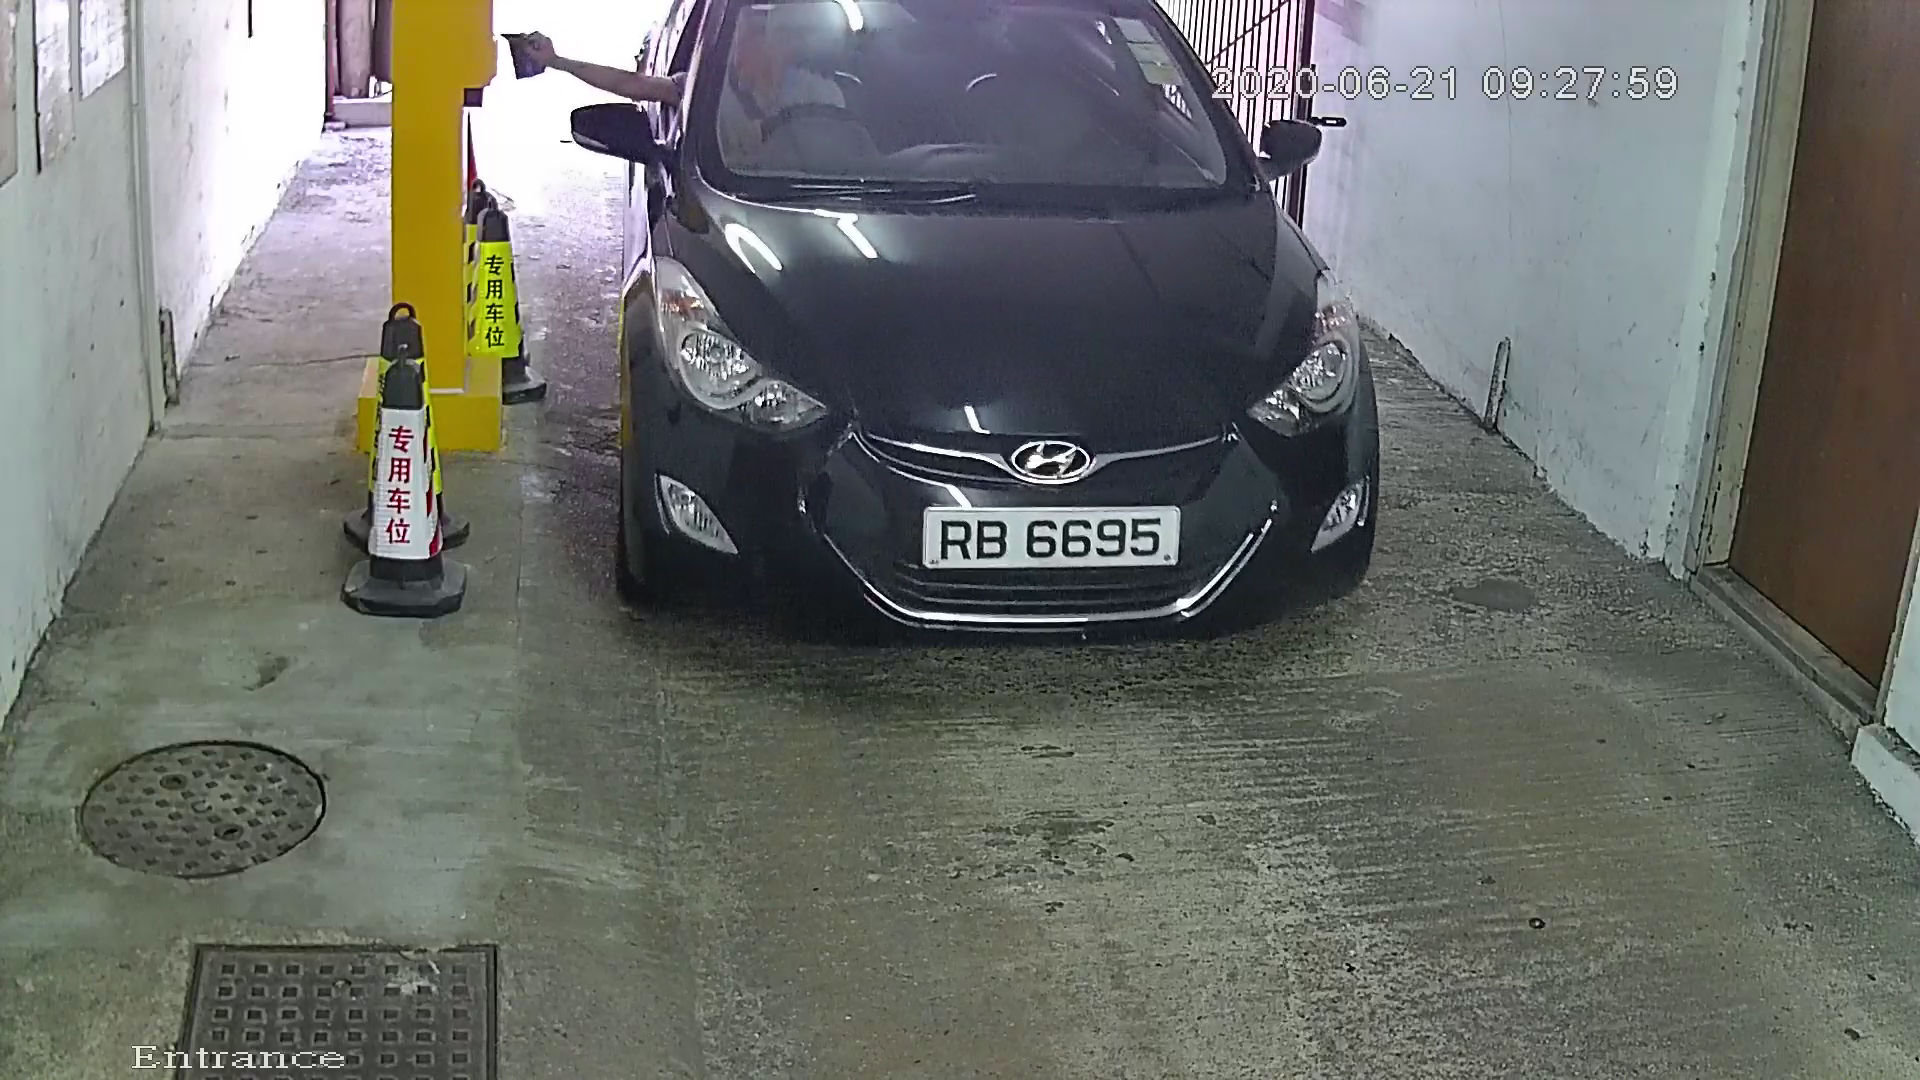privatecar: (549, 3, 1422, 698)
